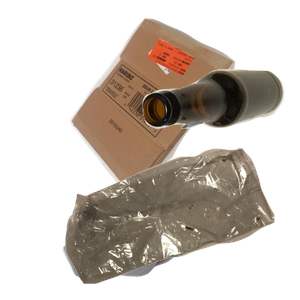cardboard: (67, 16, 295, 196)
glass: (140, 67, 300, 188)
plastic: (60, 190, 300, 280)
trash: (63, 145, 300, 300)
